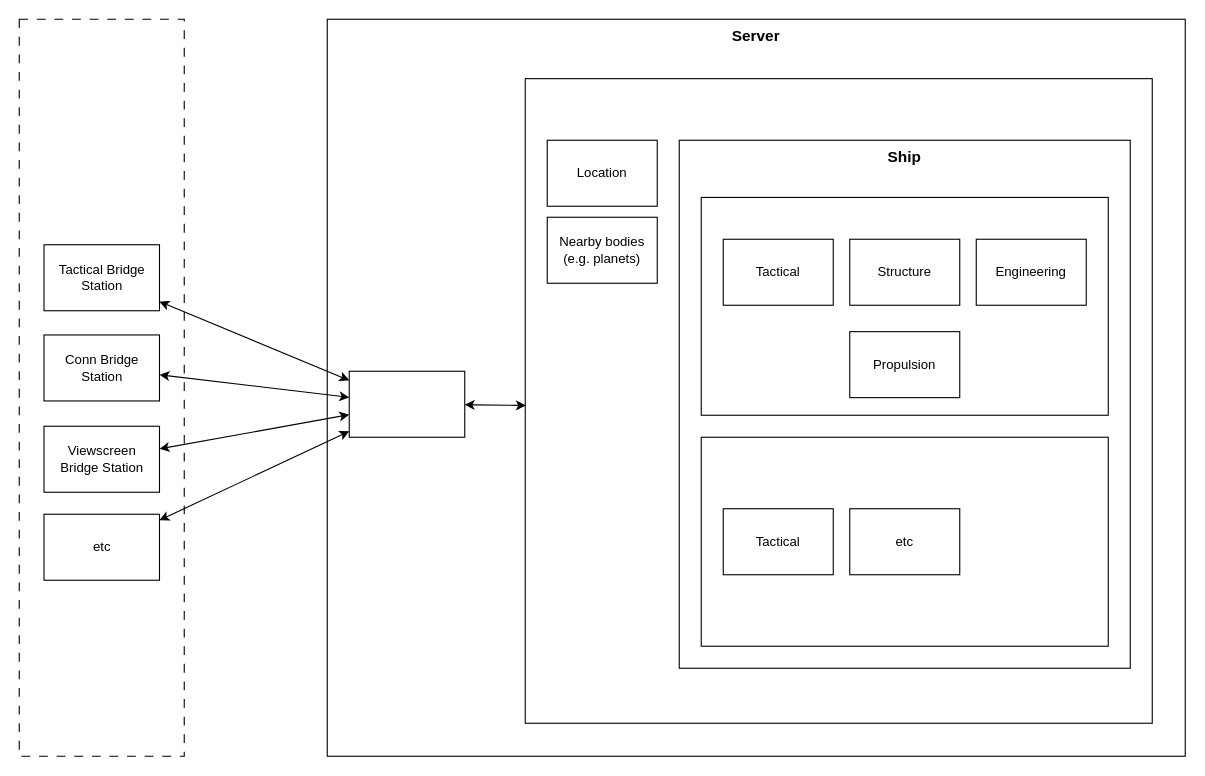
Image size: 1205x776. Some labels were removed from this diagram. Each missing label, with the box of its shape:
Bridge (across devices): (18, 18, 184, 756)
Data Interface: (348, 370, 465, 437)
Enemy Ships: (700, 436, 1108, 646)
Systems: (700, 196, 1108, 415)
Universe State: (524, 78, 1152, 723)
